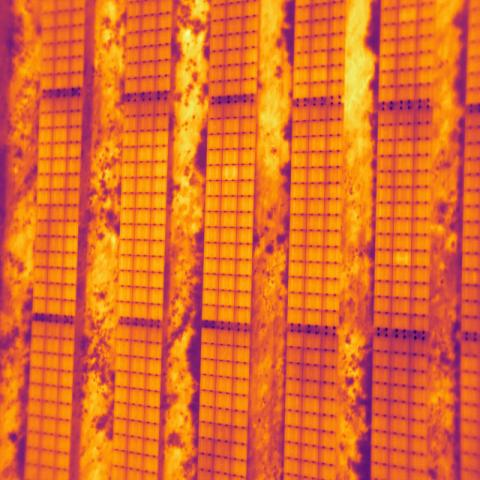fault: (221, 164, 240, 181)
